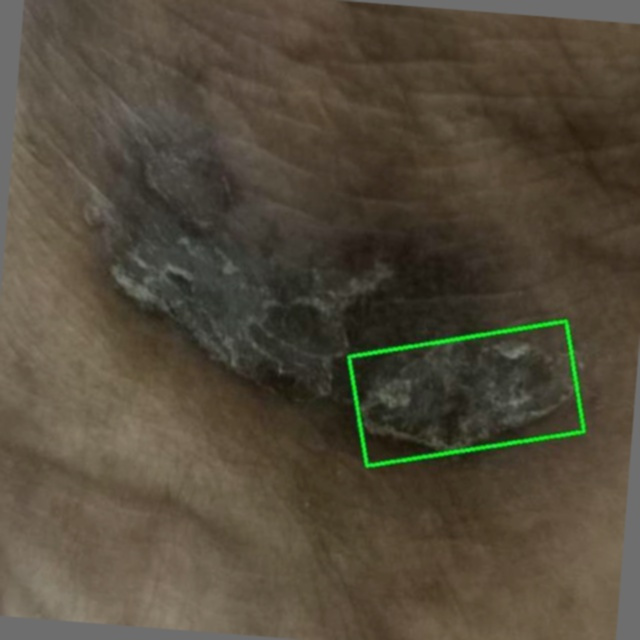Eczema: (349, 321, 584, 466)
